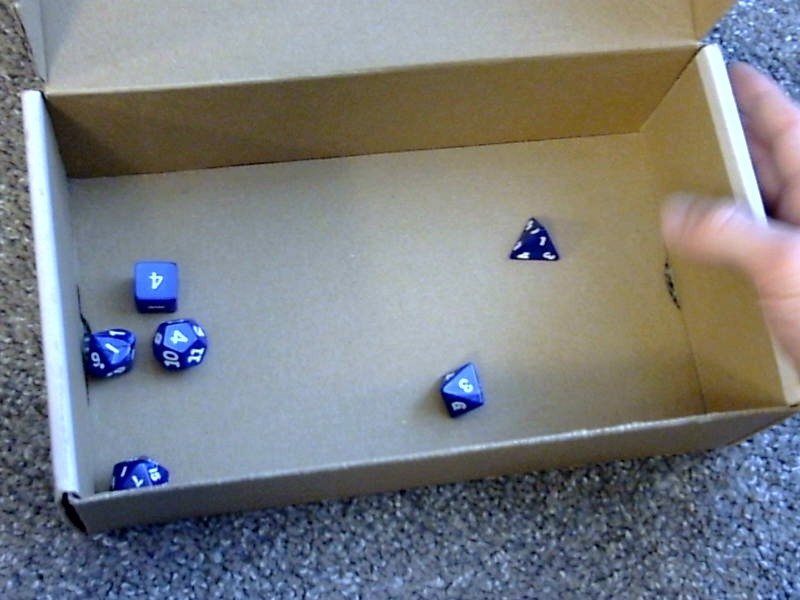d10 1: (71, 323, 139, 384)
d12 4: (152, 317, 206, 373)
d20 7: (100, 450, 172, 502)
d4 1: (506, 213, 560, 269)
d6 4: (127, 255, 183, 313)
d8 3: (430, 362, 487, 417)
